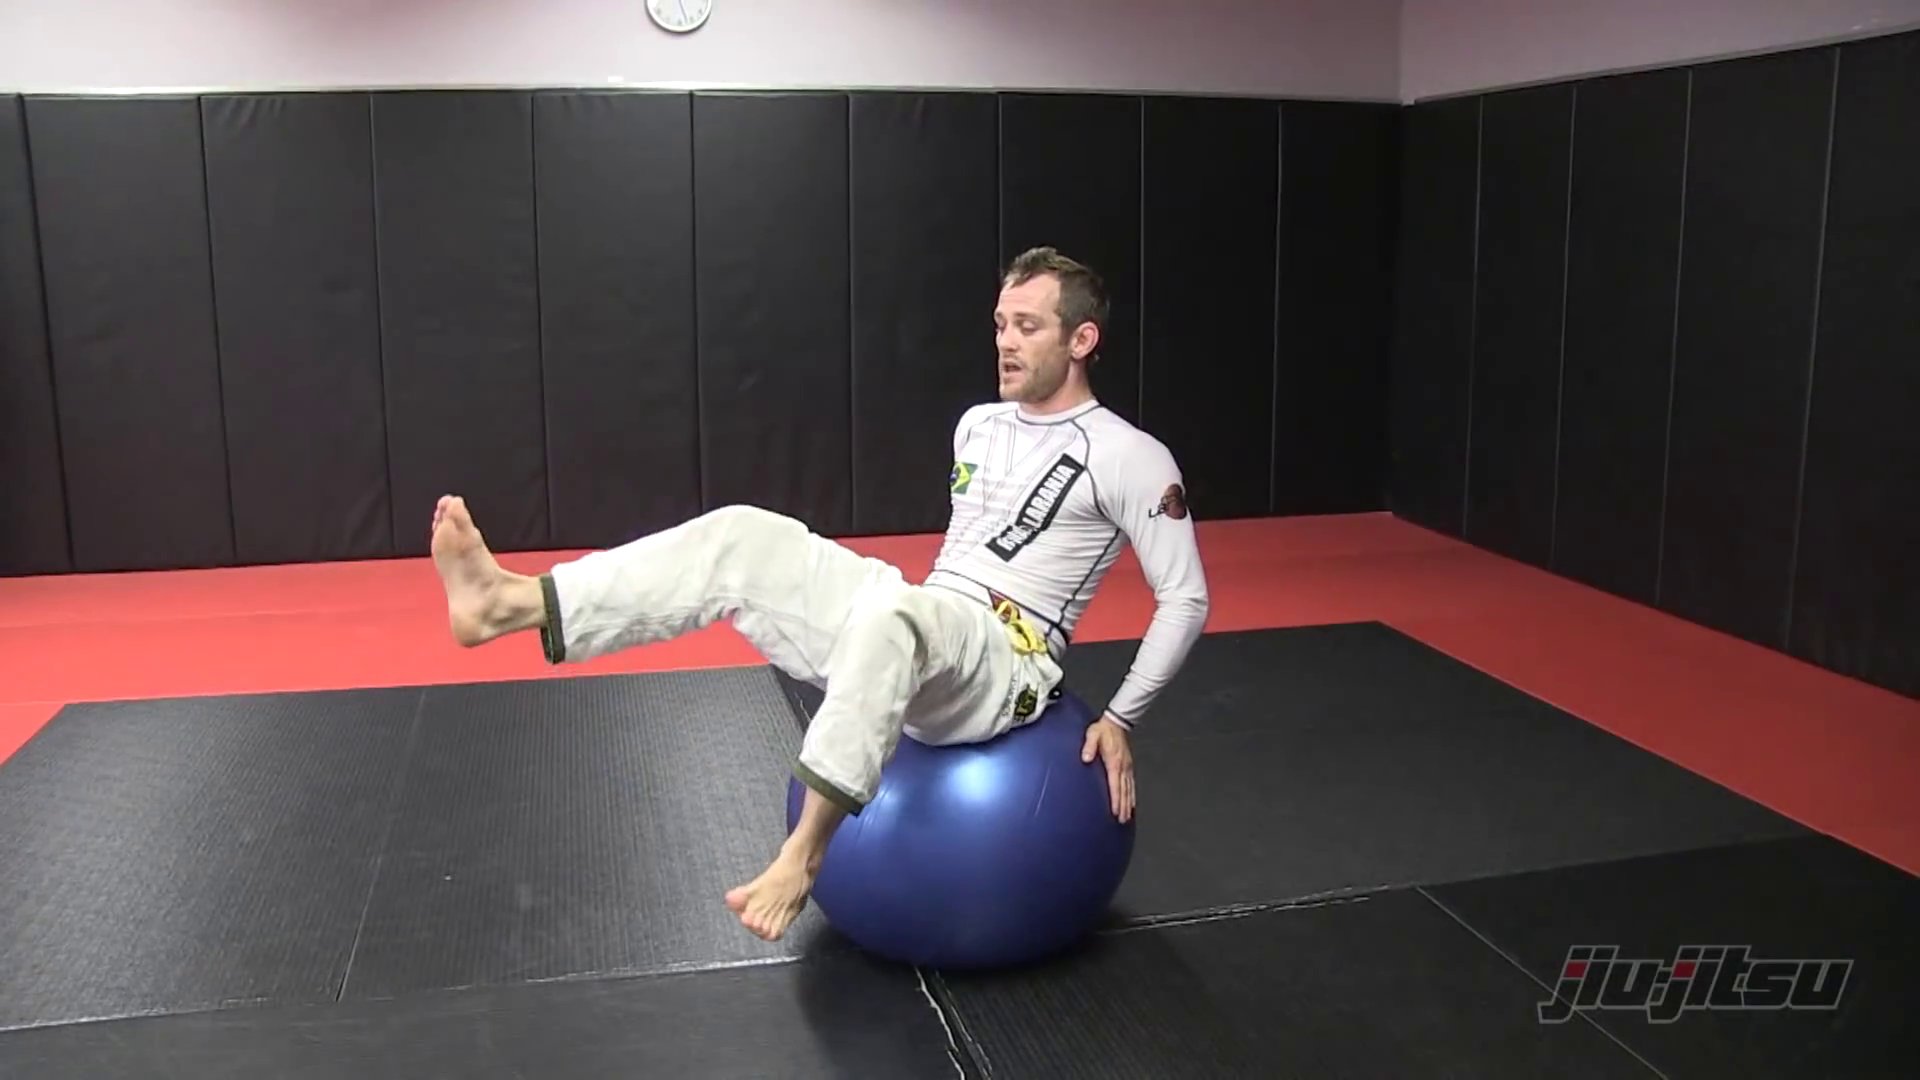yogaball: (767, 673, 1164, 989)
